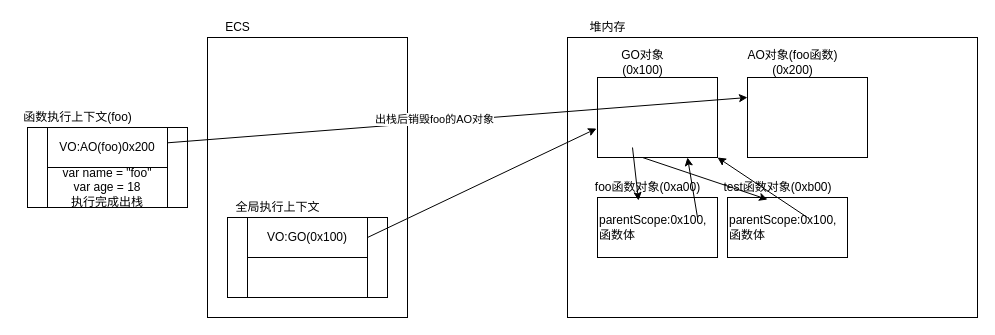
Image size: 995x335. Some labels were removed from this diagram. Each missing label, with the box of its shape:
Date String window message:"hello word" foo:0xa00 test:0xb00: (596, 76, 718, 158)
name:"foo", age:18: (746, 76, 868, 158)
